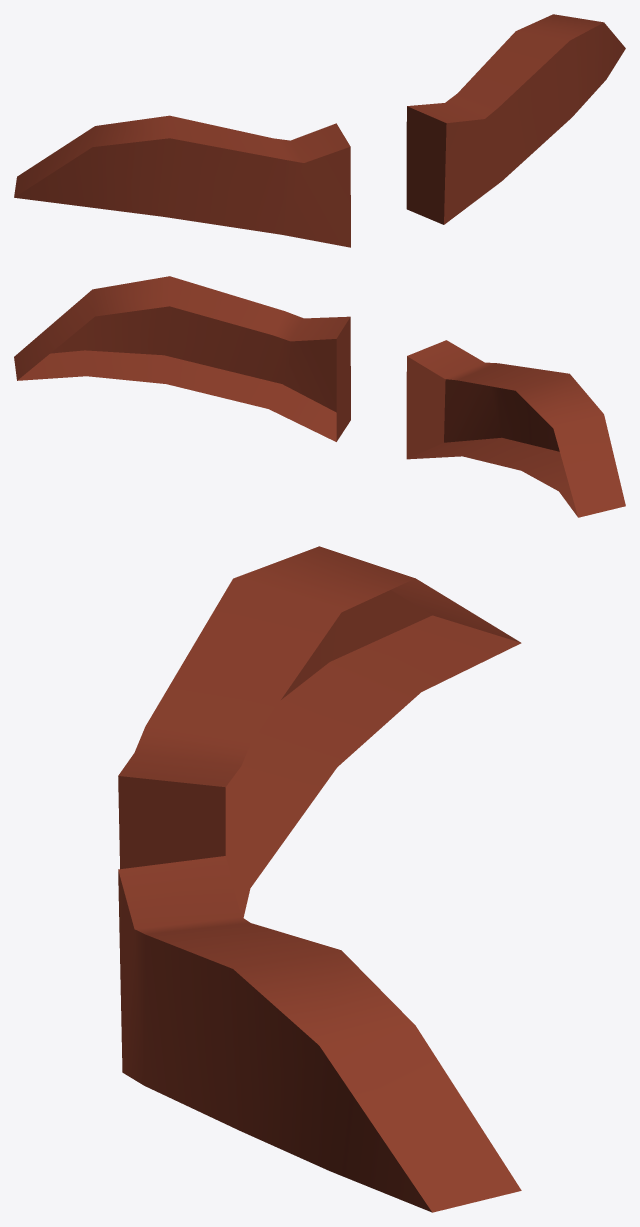
Rendered from Brow_Brown_5.fbx.
The picture shows the model from 3 angles, top to bottom: view 1: azimuth 30°, elevation 25°; view 2: azimuth 150°, elevation 25°; view 3: azimuth 270°, elevation 25°; orthographic projection. The views are drawn at different scales.
Parts seen in each view (by area): view 1: Brow_Brown_5; view 2: Brow_Brown_5; view 3: Brow_Brown_5.
Boxes of the visible parts, x1,y1,x2,y2 form: Brow_Brown_5: (14, 14, 625, 247); Brow_Brown_5: (14, 276, 625, 517); Brow_Brown_5: (118, 546, 521, 1212).
Bounding box in the file's own units: 41.99 × 8.34 × 11.99.
